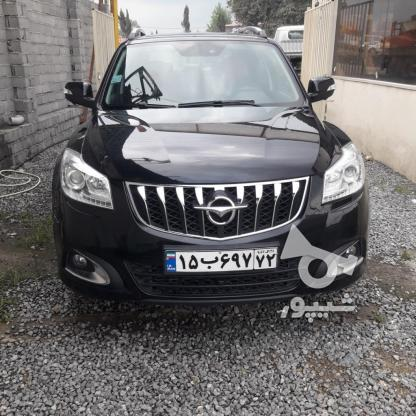car: (164, 247, 277, 278)
